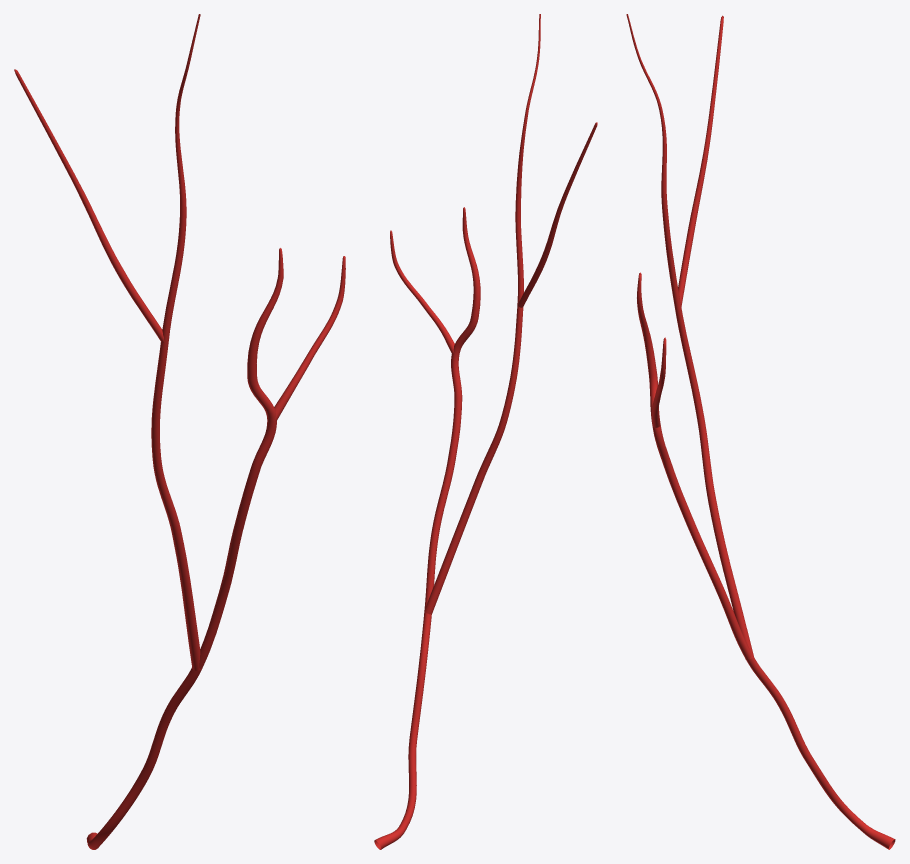
File: circulatorio-superficial-epigastric-vein-r.glb
3 renders of one model, left to right at view 1: azimuth 30°, elevation 25°; view 2: azimuth 150°, elevation 25°; view 3: azimuth 270°, elevation 25°, orthographic. The views are drawn at different scales.
Visible parts, largest first — view 1: Superficial epigastric vein.r; view 2: Superficial epigastric vein.r; view 3: Superficial epigastric vein.r.
Boxes of the visible parts, left/top/right/bottom form: Superficial epigastric vein.r: left=14, top=14, right=345, bottom=849; Superficial epigastric vein.r: left=374, top=14, right=597, bottom=849; Superficial epigastric vein.r: left=626, top=14, right=895, bottom=849.
Size of the model in its own units: 0.0693 by 0.2136 by 0.0639.
